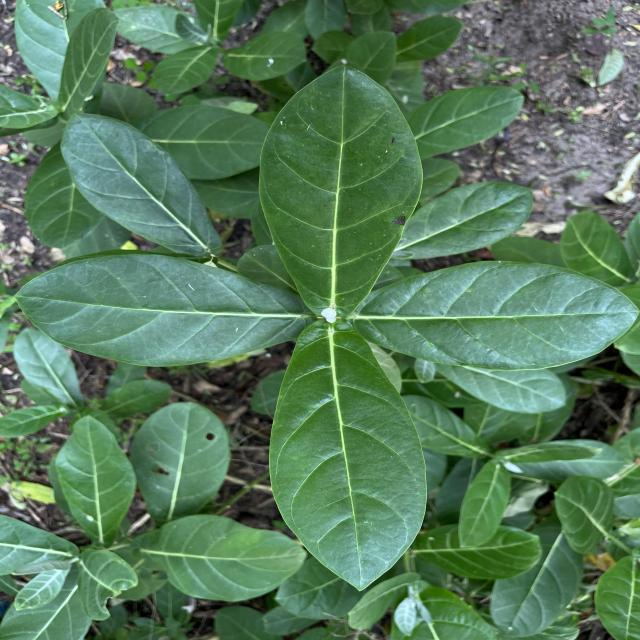Calotropis gigantea: (266, 316, 432, 594), (255, 61, 428, 320), (12, 250, 314, 370), (356, 259, 640, 375), (60, 110, 226, 256), (136, 513, 310, 604), (128, 400, 232, 526), (394, 180, 537, 262), (56, 416, 138, 548)
